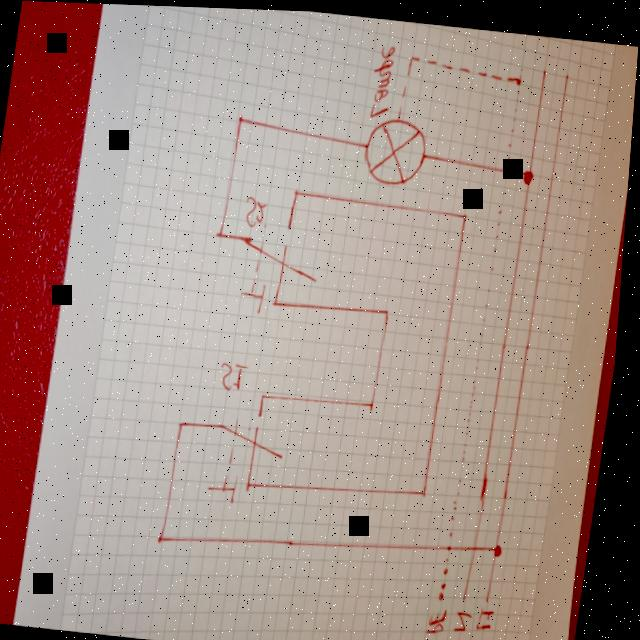crossover: (506, 158, 516, 174), (478, 536, 489, 550), (453, 539, 462, 554)
junction: (523, 163, 538, 182), (513, 69, 527, 86), (500, 538, 512, 553), (218, 226, 229, 239), (164, 531, 174, 544), (252, 477, 262, 490), (238, 111, 247, 124), (183, 417, 193, 428), (295, 184, 304, 195), (276, 295, 285, 306), (265, 389, 274, 398), (374, 397, 382, 407), (409, 51, 417, 59), (465, 208, 472, 217), (388, 305, 395, 313), (428, 486, 435, 494)
switch: (237, 220, 329, 317), (213, 406, 296, 507)
terminal: (469, 587, 479, 600), (446, 586, 456, 599), (492, 592, 501, 600), (542, 63, 550, 71), (565, 68, 572, 76)
text: (369, 38, 399, 116), (222, 358, 254, 392), (456, 604, 488, 631), (246, 194, 272, 227), (434, 602, 460, 633), (484, 602, 506, 628)
